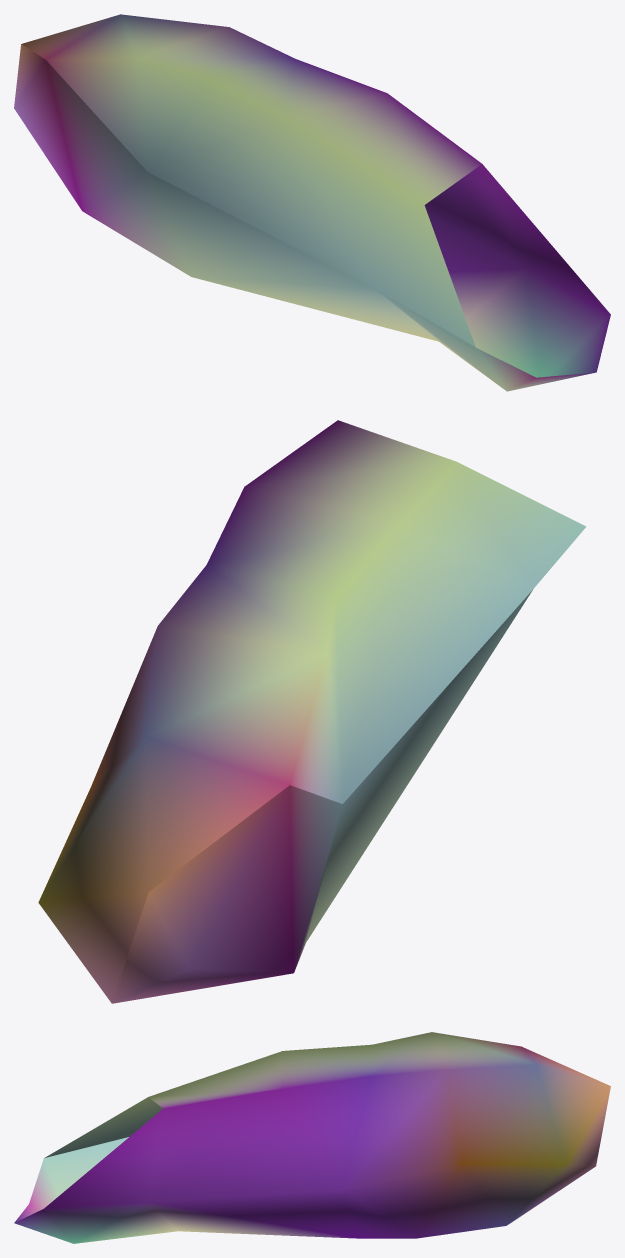
3 views of the same model, one above another, from view 1: azimuth 30°, elevation 25°; view 2: azimuth 150°, elevation 25°; view 3: azimuth 270°, elevation 25° (orthographic). The views are drawn at different scales.
Visible parts, largest first — view 1: part; view 2: part; view 3: part.
Part boxes in pixels (left/top/right/bottom): part: left=14, top=14, right=610, bottom=391; part: left=38, top=420, right=586, bottom=1003; part: left=14, top=1032, right=610, bottom=1243.
Size of the model in its own units: 15 by 12 by 40.
